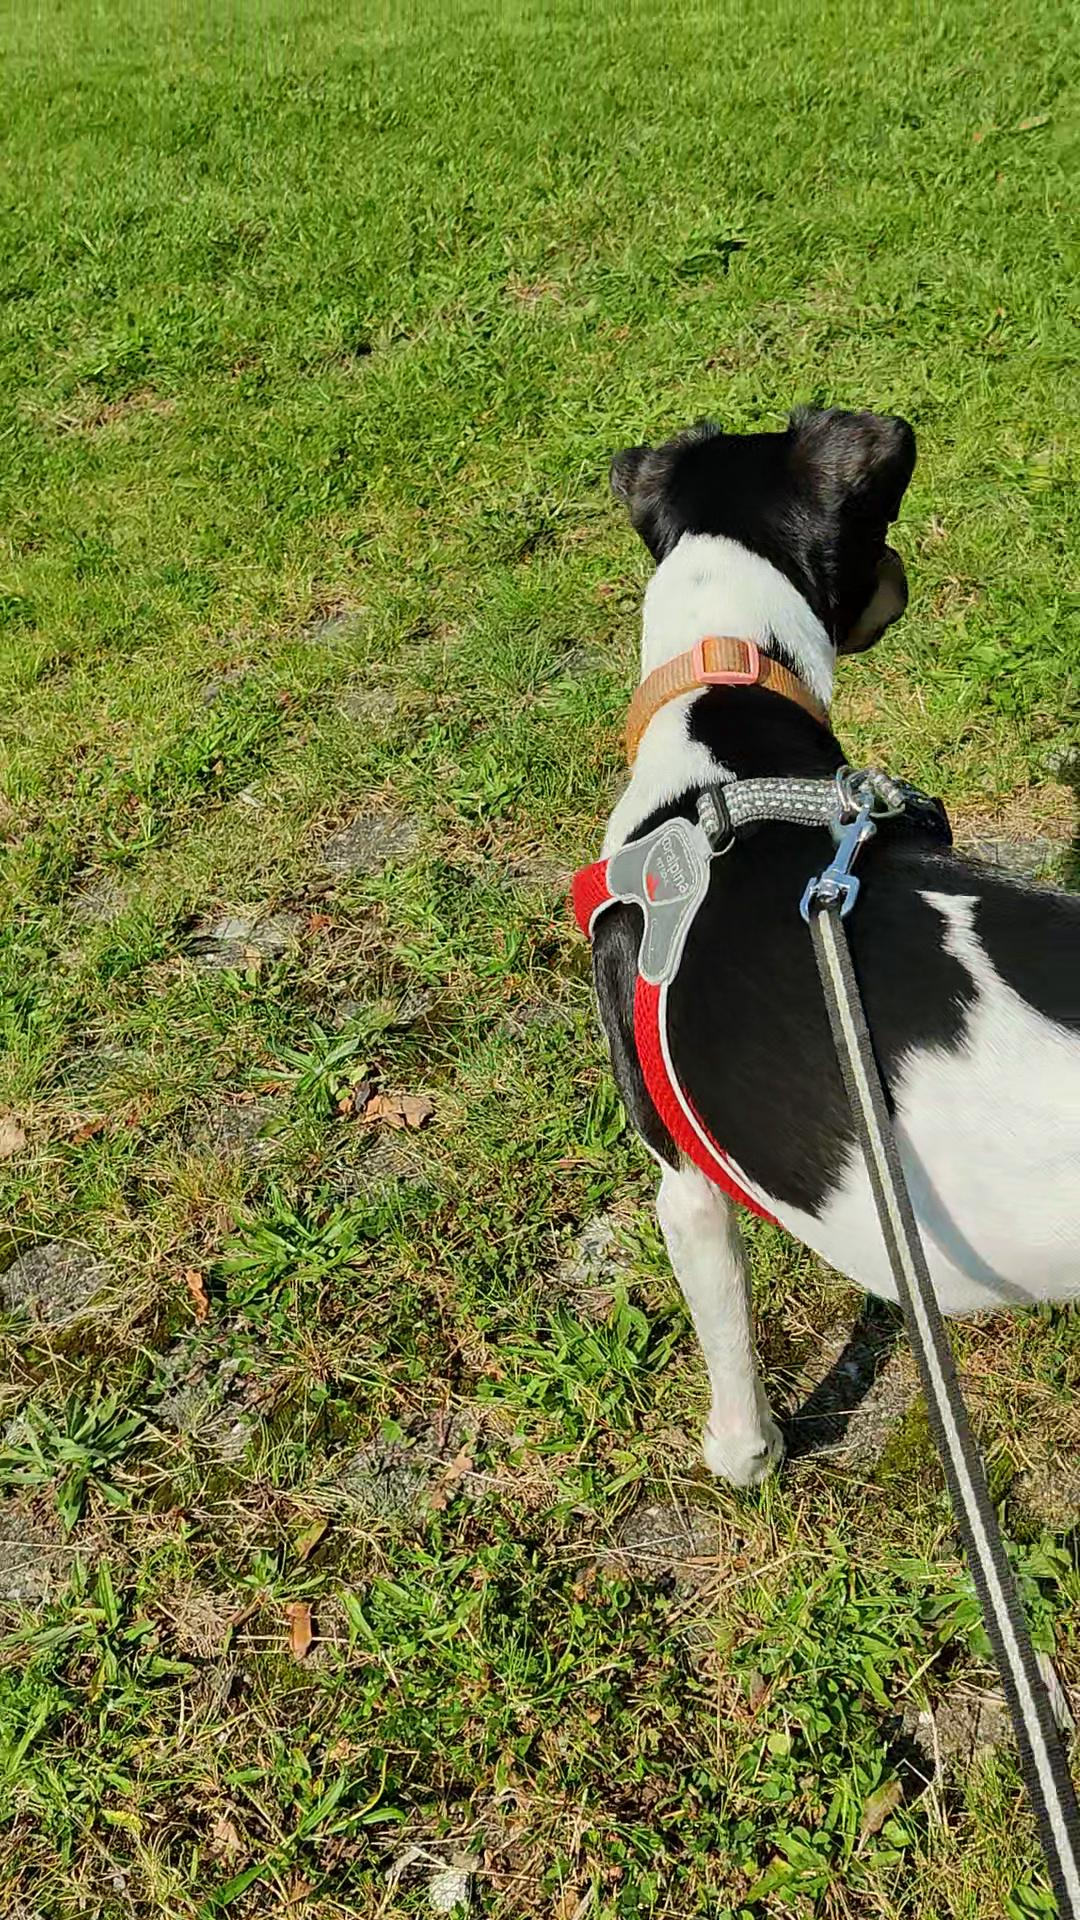Dog: (571, 372, 1079, 1526)
